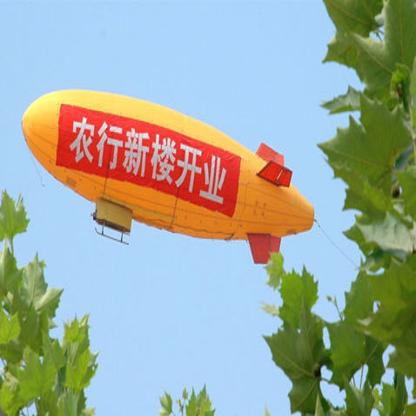Airship: (15, 87, 319, 271)
